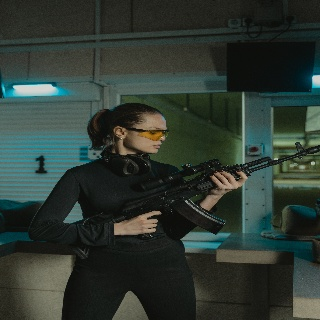rifle: (61, 139, 320, 260)
